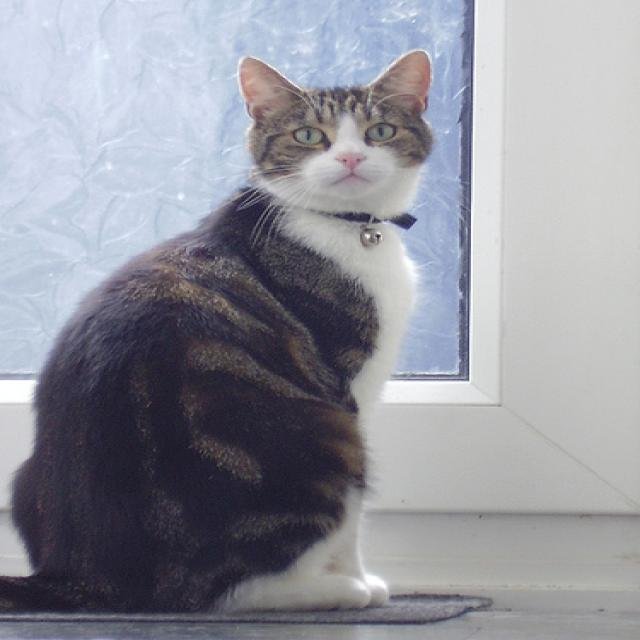cat: (1, 50, 455, 619)
